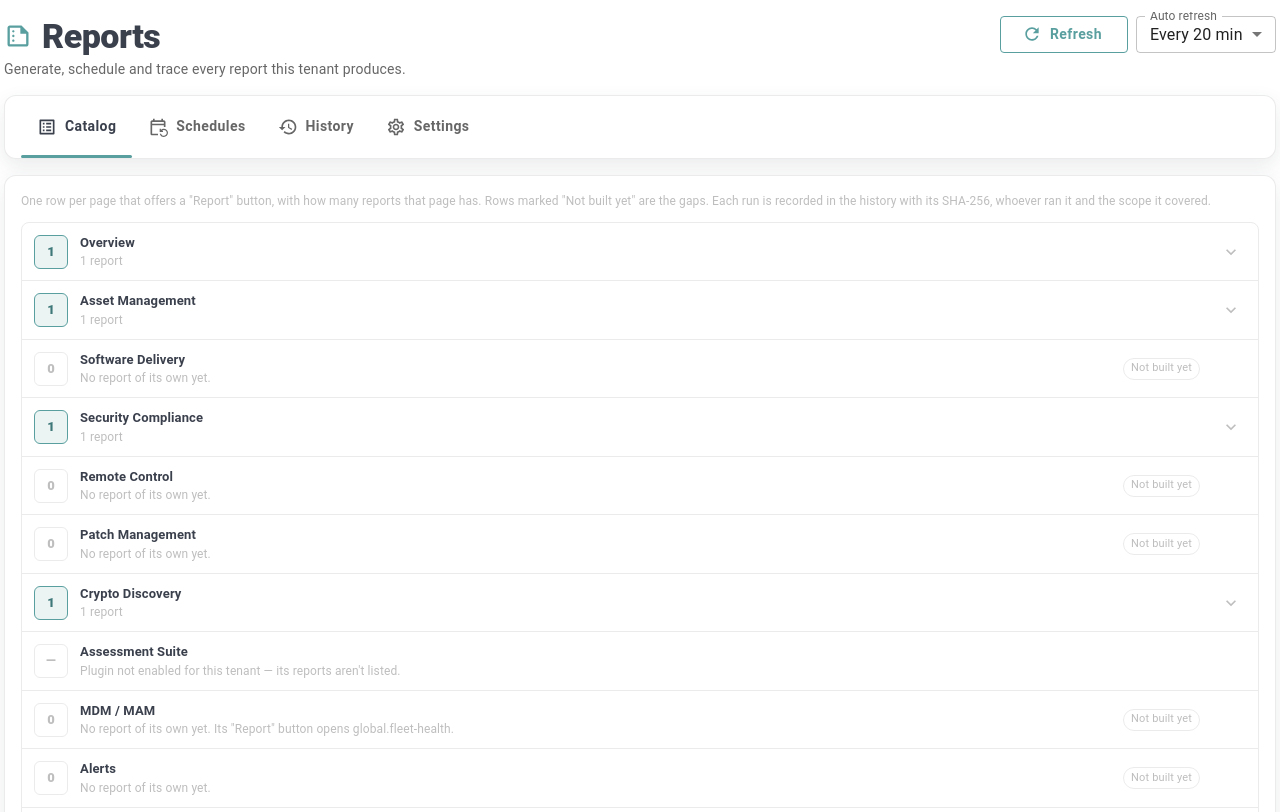
Scenario: Reports — schedules (E3) › programar NO se hace desde el catálogo, sino desde su pestaña — para cualquier tipo
Click the tab "Schedules": (197, 127) [132, 96, 262, 158]
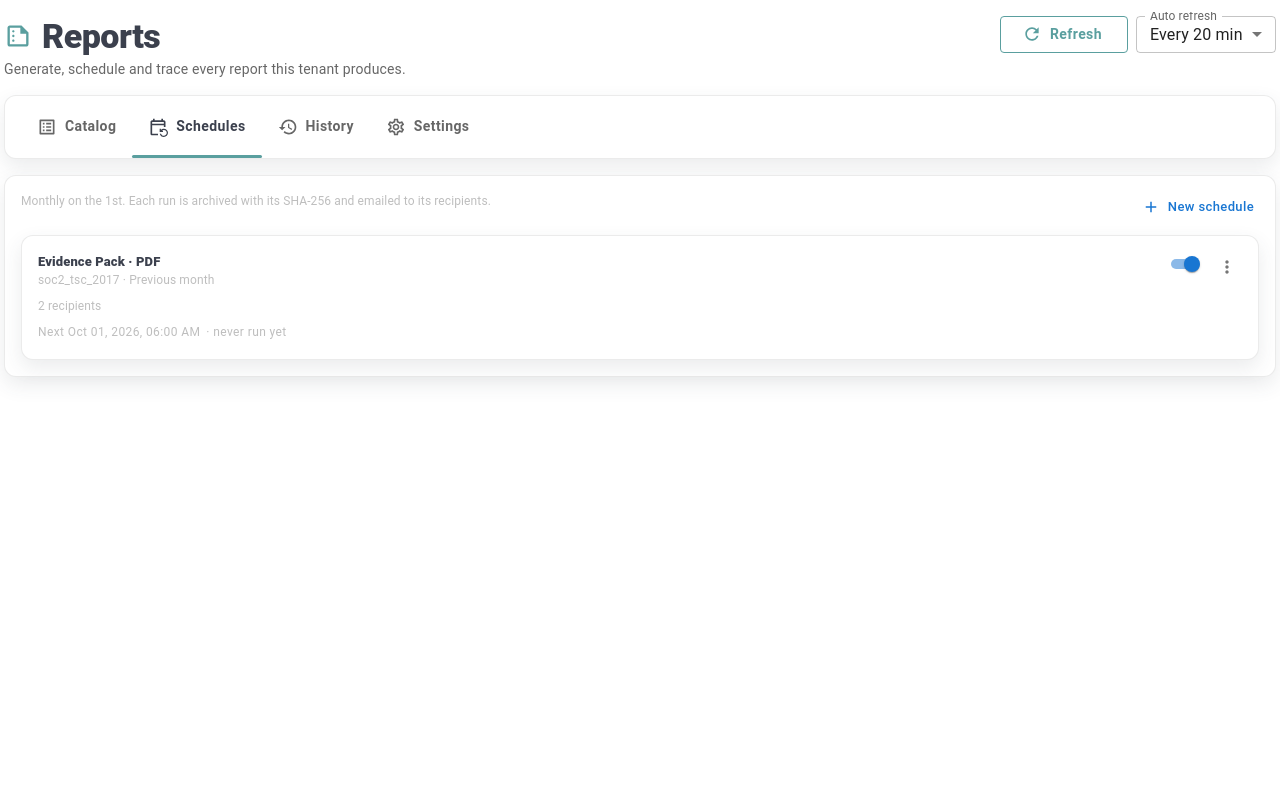
Expected: the text "Previous month" is shown, [38, 273, 214, 287]
Click the button "New schedule": (1199, 207) [1139, 192, 1259, 223]
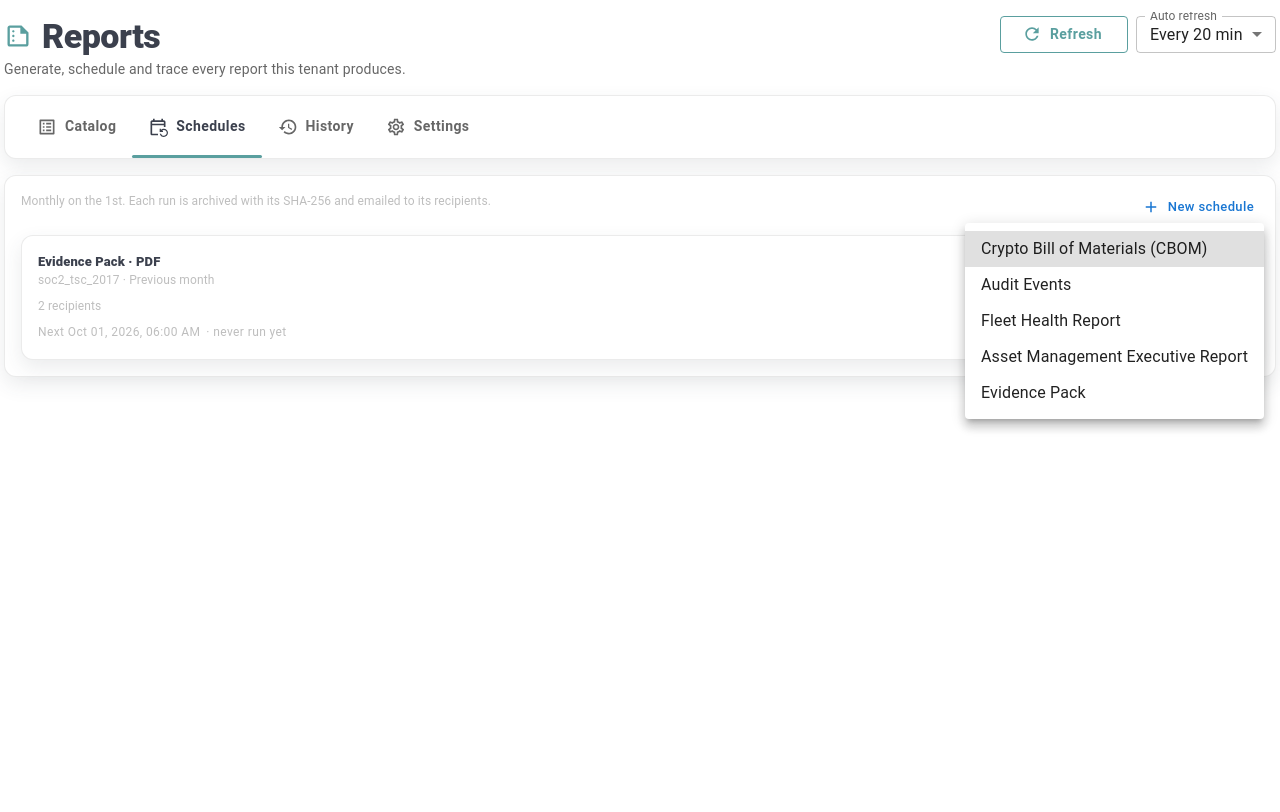
Expected: the menu item "Crypto Bill of Materials (CBOM)" is shown, [965, 231, 1264, 267]
Expected: the menu item "Audit Events" is shown, [981, 275, 1072, 294]
Expected: the menu item "Fleet Health Report" is shown, [981, 311, 1121, 330]
